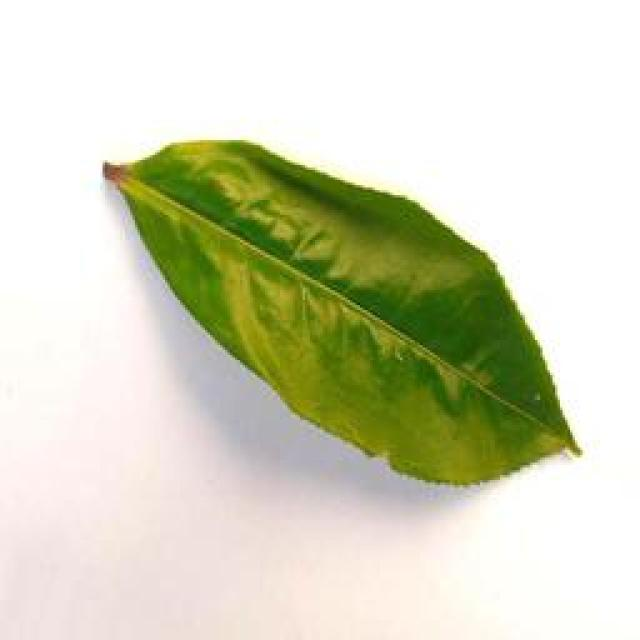Healthy: (94, 140, 580, 497)
